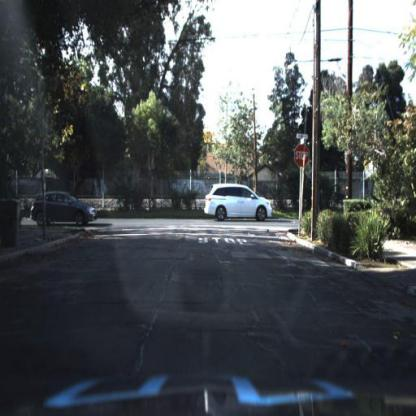car: (192, 182, 288, 230), (205, 179, 275, 224), (31, 195, 98, 230)
